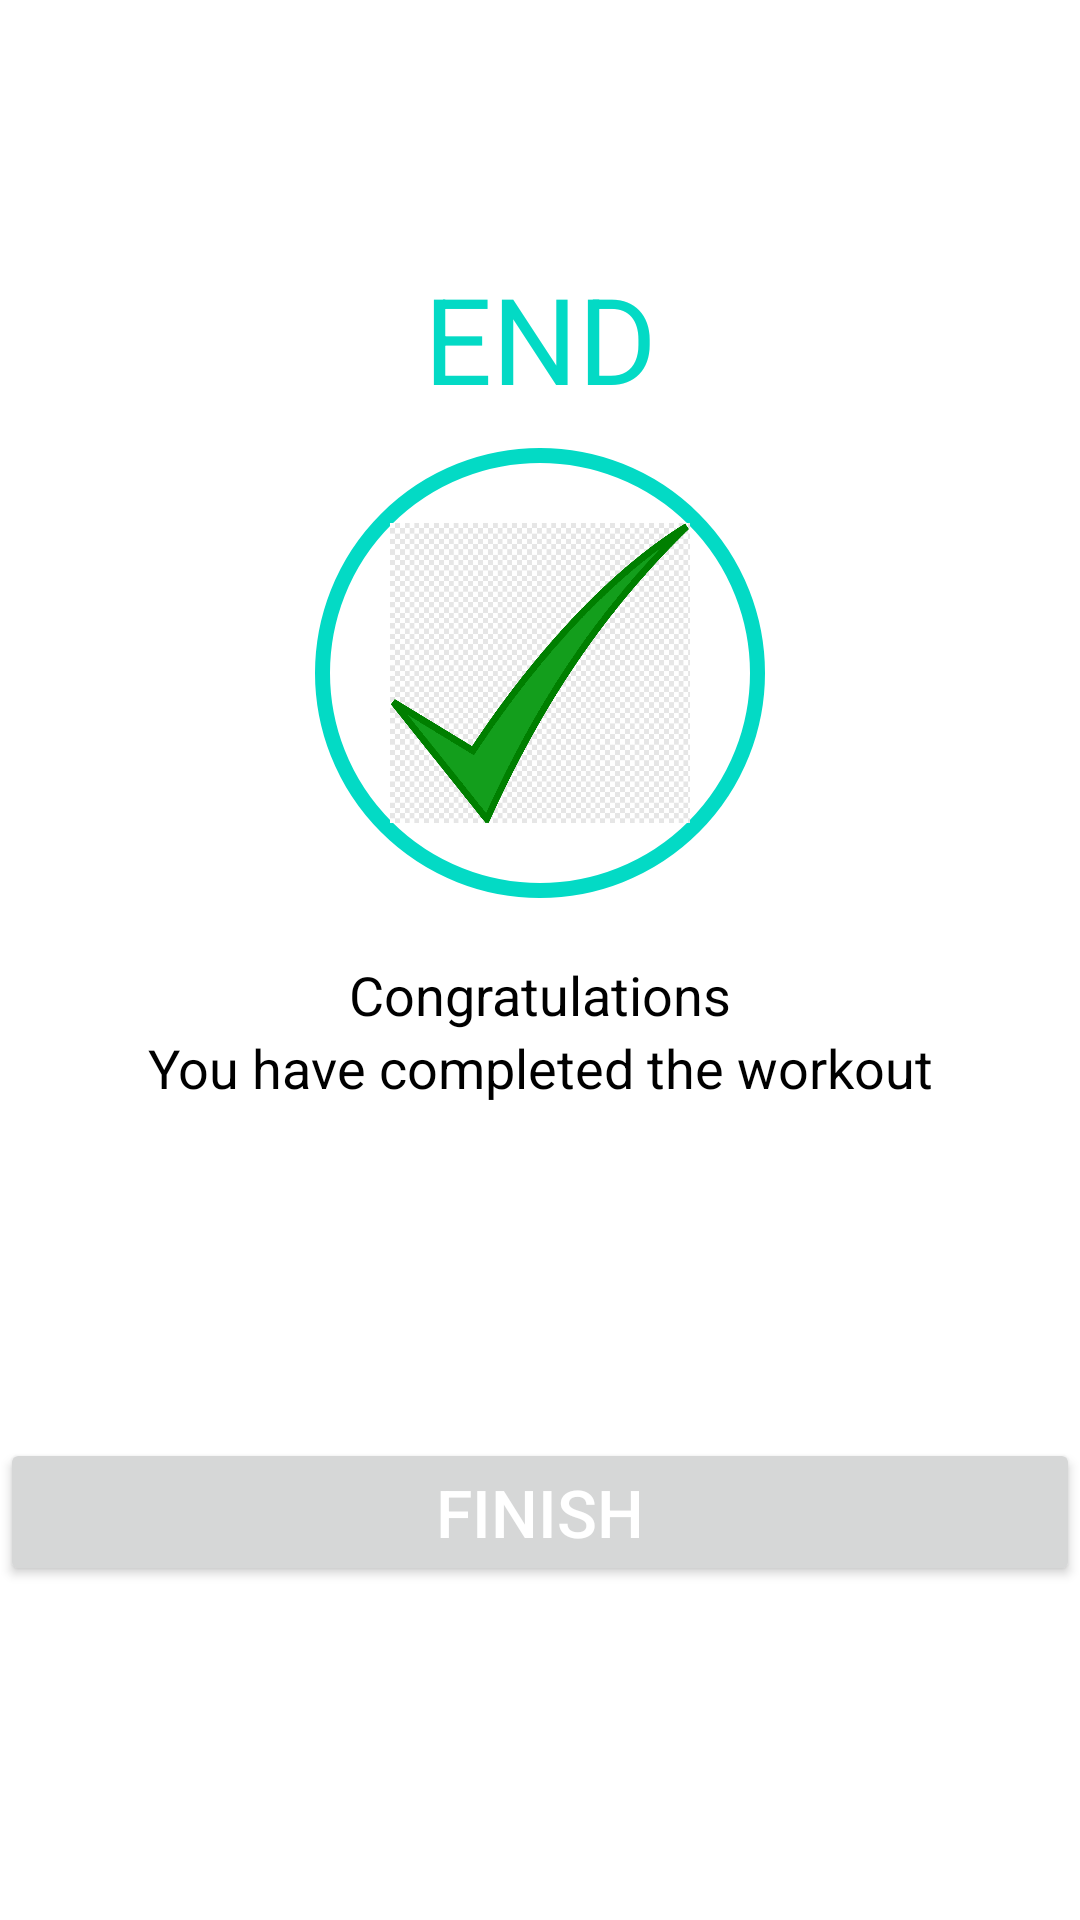

Screen size 1080*1920. Icon name, then its center in pixels as (x=x, y=y):
tick done: (x=540, y=673)
